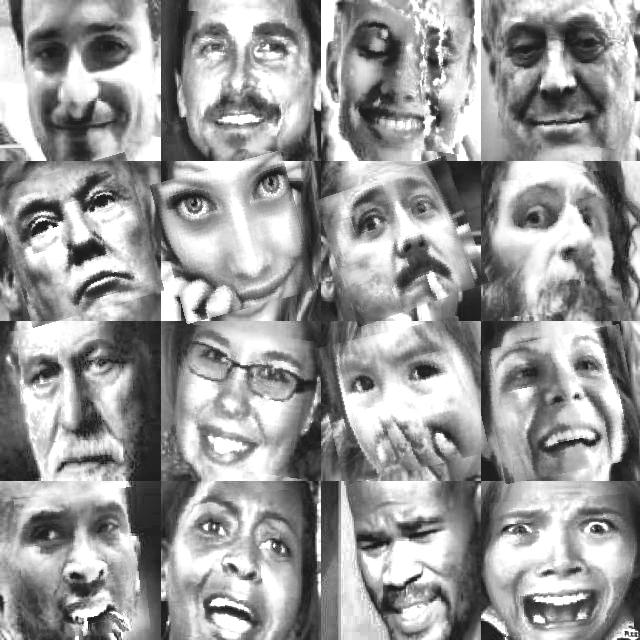angry: (328, 491, 477, 628), (17, 489, 146, 638), (177, 492, 299, 636)
fear: (320, 324, 483, 478), (491, 497, 632, 635)
happy: (158, 157, 310, 317), (486, 330, 640, 478), (172, 329, 318, 475), (340, 6, 472, 150), (19, 12, 143, 150), (179, 13, 300, 151), (499, 23, 627, 147)
neutral: (1, 160, 156, 320), (324, 166, 480, 318), (6, 326, 152, 478), (496, 173, 620, 315)
